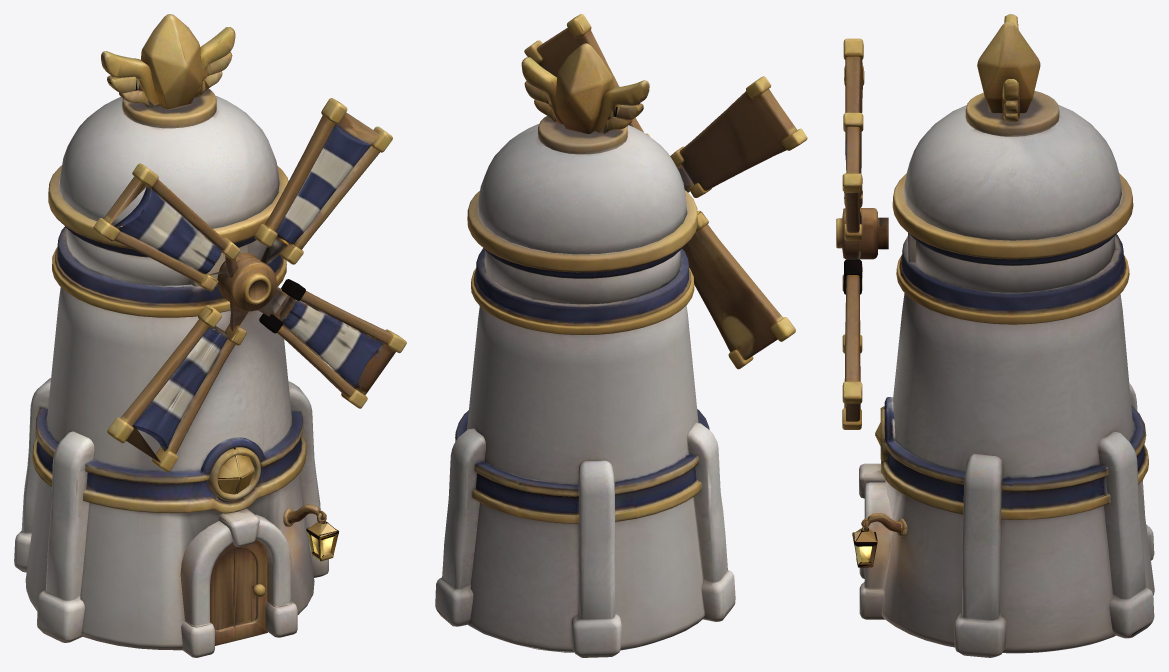
Rendered from windmill_1k.glb.
3 views of the same model, side by side, from view 1: azimuth 30°, elevation 25°; view 2: azimuth 150°, elevation 25°; view 3: azimuth 270°, elevation 25° (orthographic). The views are drawn at different scales.
Parts seen in each view (by area): view 1: windmillBody, windBlades; view 2: windmillBody, windBlades; view 3: windmillBody, windBlades.
Part boxes in pixels (left/top/right/bottom): windmillBody: left=14, top=14, right=338, bottom=657; windBlades: left=93, top=98, right=406, bottom=472; windmillBody: left=435, top=43, right=735, bottom=657; windBlades: left=524, top=14, right=807, bottom=369; windmillBody: left=852, top=14, right=1154, bottom=657; windBlades: left=836, top=38, right=888, bottom=429.
Size of the model in its own units: 0.5513 by 1.02 by 0.5024.
Materials: 2 (2 with a texture image).
